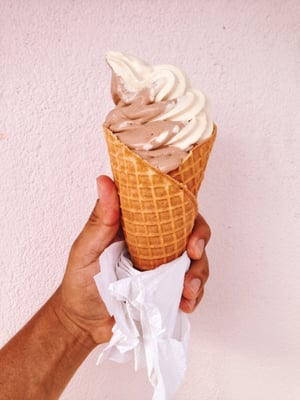pizza: (1, 52, 217, 399), (0, 151, 211, 400)
